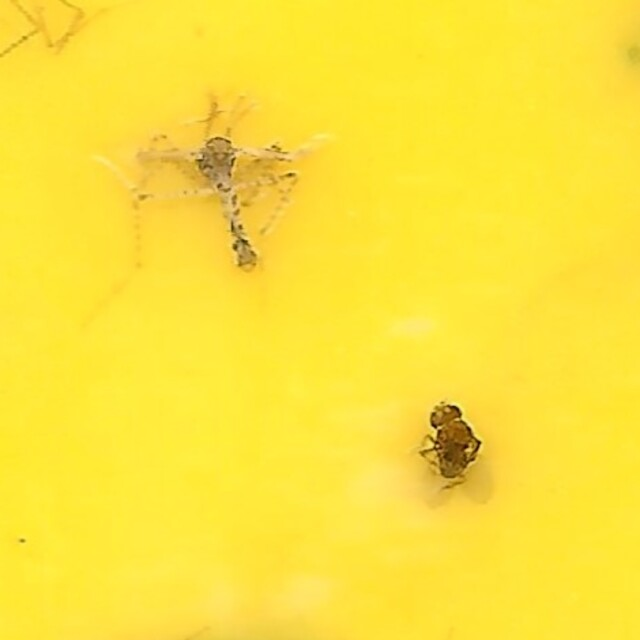Brachycera: (414, 400, 504, 515)
Nematocera: (136, 125, 298, 275)
